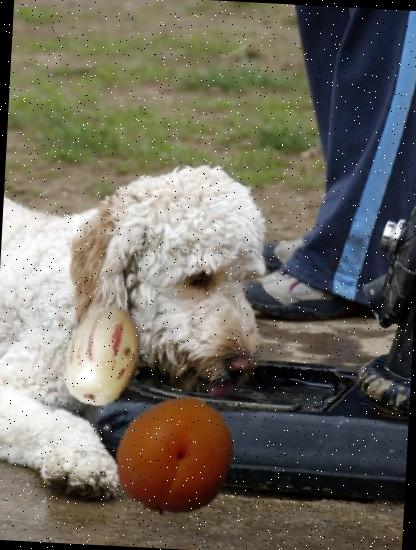Apricot: (112, 392, 238, 518)
Pepino: (50, 303, 157, 410)
